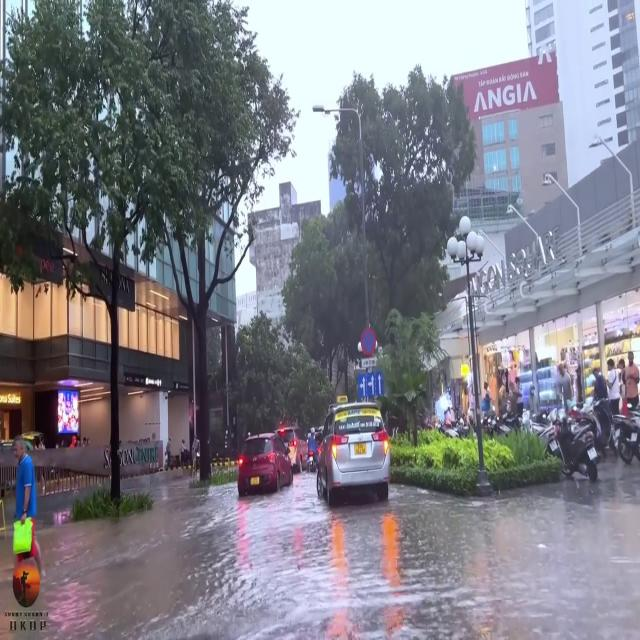bien_vang: (354, 441, 367, 455), (250, 477, 259, 485)
